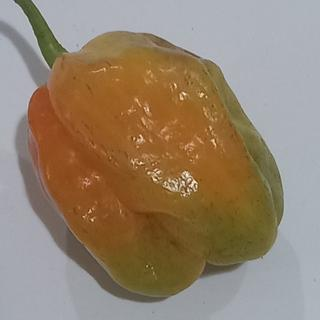Grade-A: (22, 25, 286, 299)
